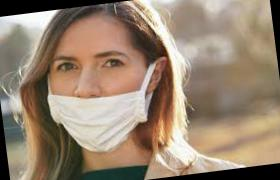mask_weared_incorrect: (40, 40, 163, 145)
